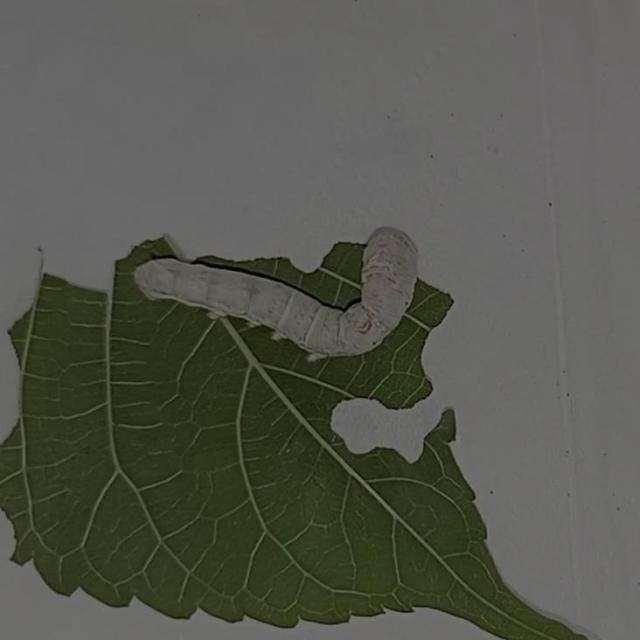Healthy: (122, 206, 456, 364)
